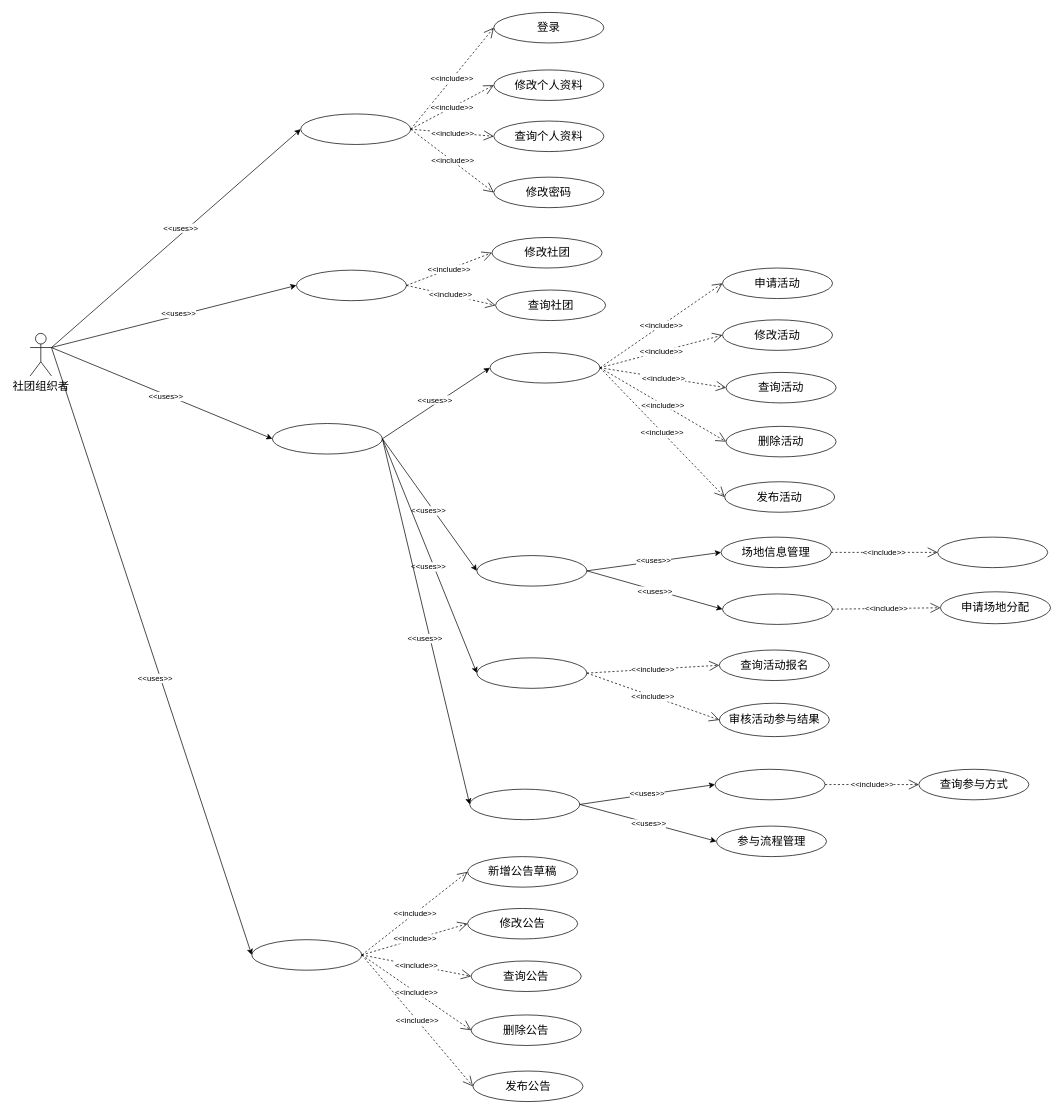
Image size: 1063x1114. Some labels were removed from this diagram. The shapes that lost their labels are listed below. From the top down, each one's centre as x and y in pixels, then its label:
[355,128]: 用户登录
[351,285]: 社团信息管理
[544,367]: 活动信息管理
[327,438]: 社团活动管理
[531,570]: 活动场地管理
[992,552]: 查询场地信息
[777,608]: 场地分配管理
[531,672]: 活动报名管理
[524,804]: 活动参与管理
[769,784]: 参与方式管理
[306,954]: 公告信息管理
